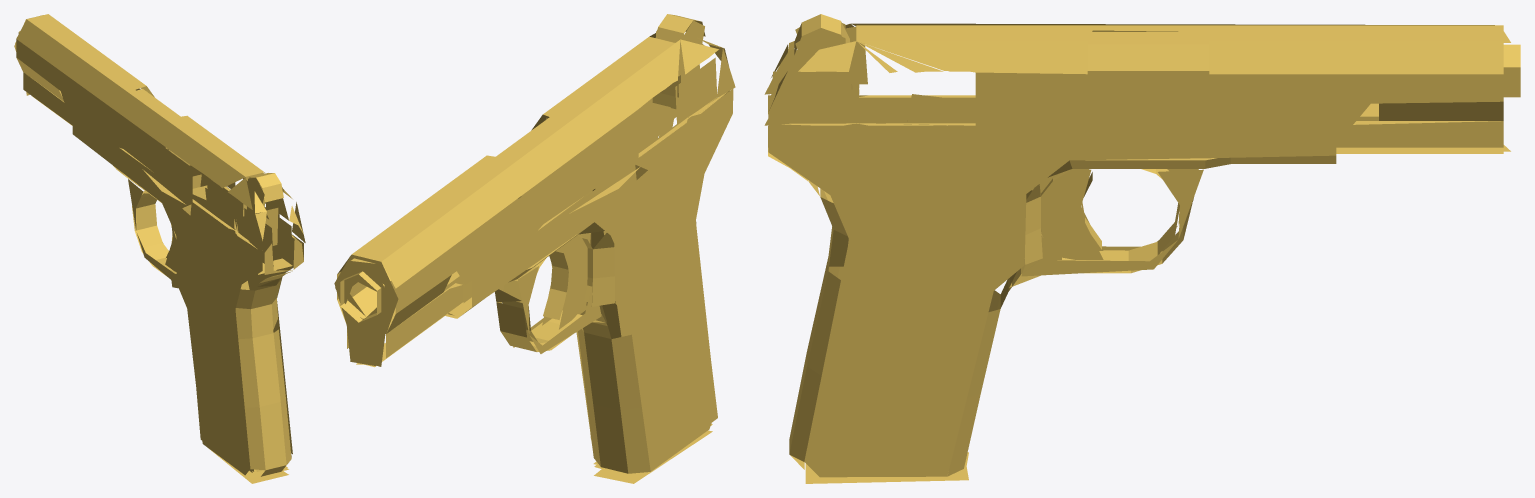
The model's file is charm_mst_pistol_7.glb.
The picture shows the model from 3 angles, left to right: view 1: azimuth 30°, elevation 25°; view 2: azimuth 150°, elevation 25°; view 3: azimuth 270°, elevation 25°; orthographic projection. The views are drawn at different scales.
Visible parts, largest first — view 1: p0_paint; view 2: p0_paint; view 3: p0_paint.
Boxes of the visible parts, x1,y1,x2,y2 form: p0_paint: (14, 14, 305, 483); p0_paint: (334, 14, 735, 483); p0_paint: (764, 14, 1520, 483).
Bounding box in the file's own units: 0.0256 × 0.1278 × 0.1948.
